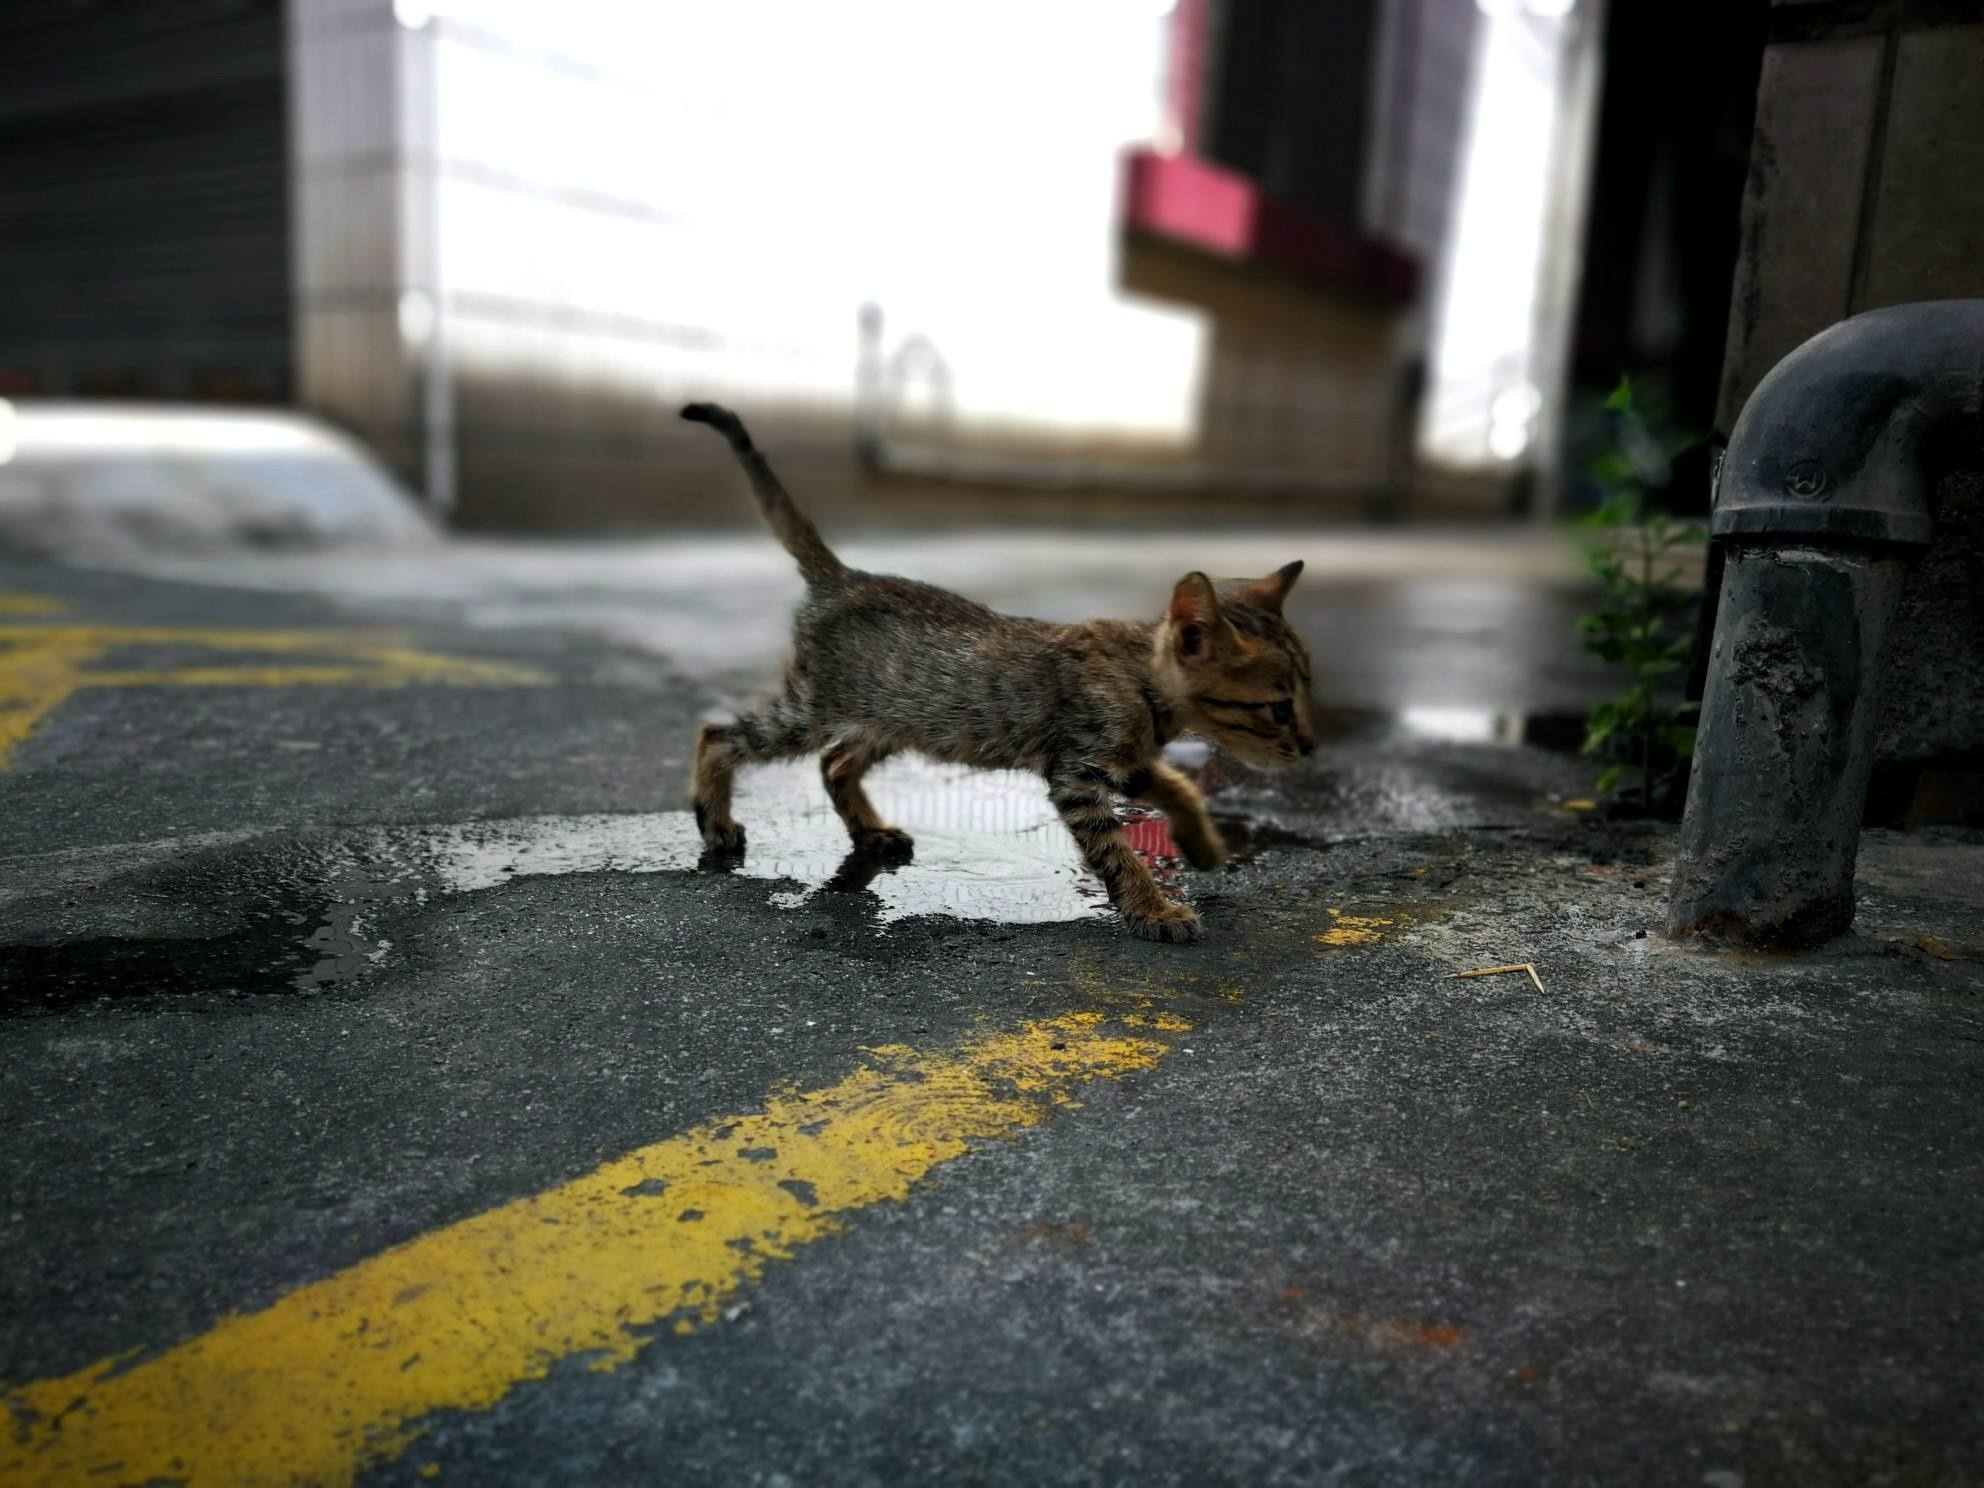cat: (675, 403, 1320, 949)
